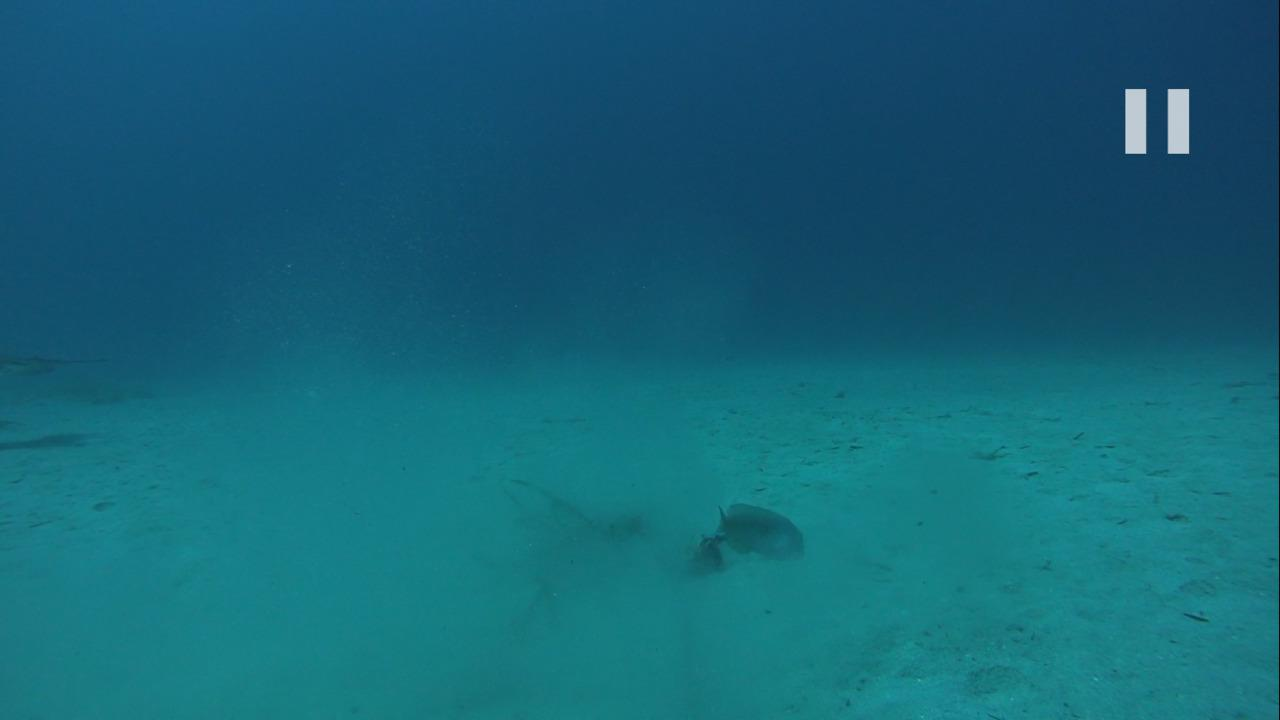myliobatis: (4, 345, 114, 390)
raor: (701, 499, 811, 565)
